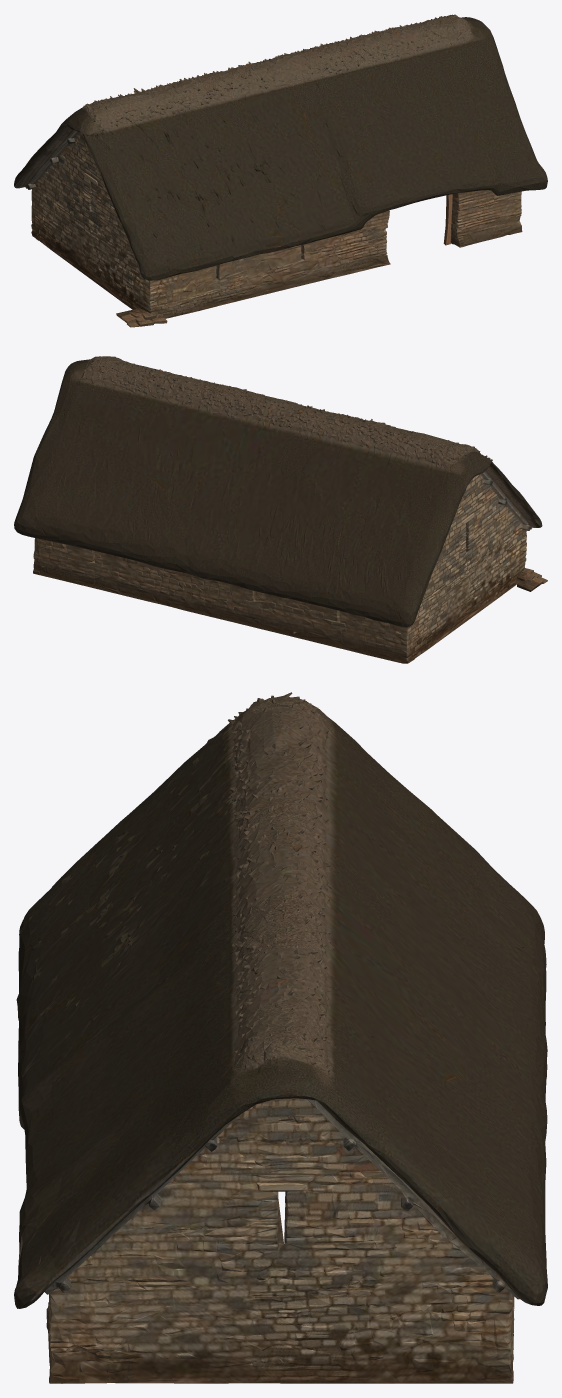
Rendered from peasant_house_cosmeston_a.meshy.reduced.glb.
3 views of the same model, one above another, from view 1: azimuth 30°, elevation 25°; view 2: azimuth 150°, elevation 25°; view 3: azimuth 270°, elevation 25° (orthographic). The views are drawn at different scales.
Bounding box in the file's own units: 1.9 × 0.7699 × 1.09.
Materials: 1 (1 with a texture image).
